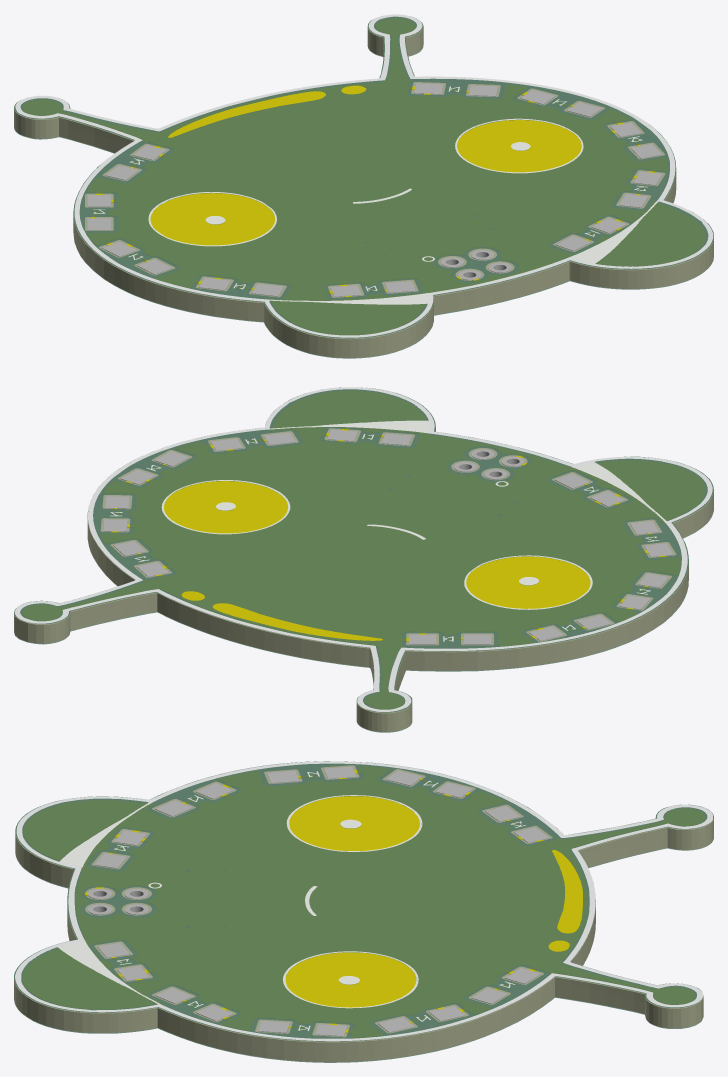
The model's file is mooncake-addon-final-space-def-con-26-sao.glb.
3 renders of one model, top to bottom at view 1: azimuth 30°, elevation 25°; view 2: azimuth 150°, elevation 25°; view 3: azimuth 270°, elevation 25°, orthographic. The views are drawn at different scales.
Visible parts, largest first — view 1: =>[0:1:1:2], =>[0:1:1:7], =>[0:1:1:9], =>[0:1:1:5]; view 2: =>[0:1:1:2], =>[0:1:1:7], =>[0:1:1:9], =>[0:1:1:5]; view 3: =>[0:1:1:2], =>[0:1:1:7], =>[0:1:1:9], =>[0:1:1:5].
Part boxes in pixels (x1=…): =>[0:1:1:2]: x1=22, y1=18, x2=705, y2=334; =>[0:1:1:7]: x1=14, y1=16, x2=713, y2=358; =>[0:1:1:9]: x1=14, y1=17, x2=713, y2=357; =>[0:1:1:5]: x1=15, y1=14, x2=713, y2=337; =>[0:1:1:2]: x1=22, y1=391, x2=705, y2=708; =>[0:1:1:7]: x1=14, y1=387, x2=713, y2=732; =>[0:1:1:9]: x1=14, y1=390, x2=713, y2=732; =>[0:1:1:5]: x1=14, y1=387, x2=712, y2=711; =>[0:1:1:2]: x1=23, y1=766, x2=704, y2=1037; =>[0:1:1:7]: x1=14, y1=761, x2=713, y2=1062; =>[0:1:1:9]: x1=14, y1=764, x2=713, y2=1062; =>[0:1:1:5]: x1=15, y1=761, x2=712, y2=1041.
Size of the model in its own units: 0.0459 by 0.00166 by 0.0484.
4 materials, 4 textured.
